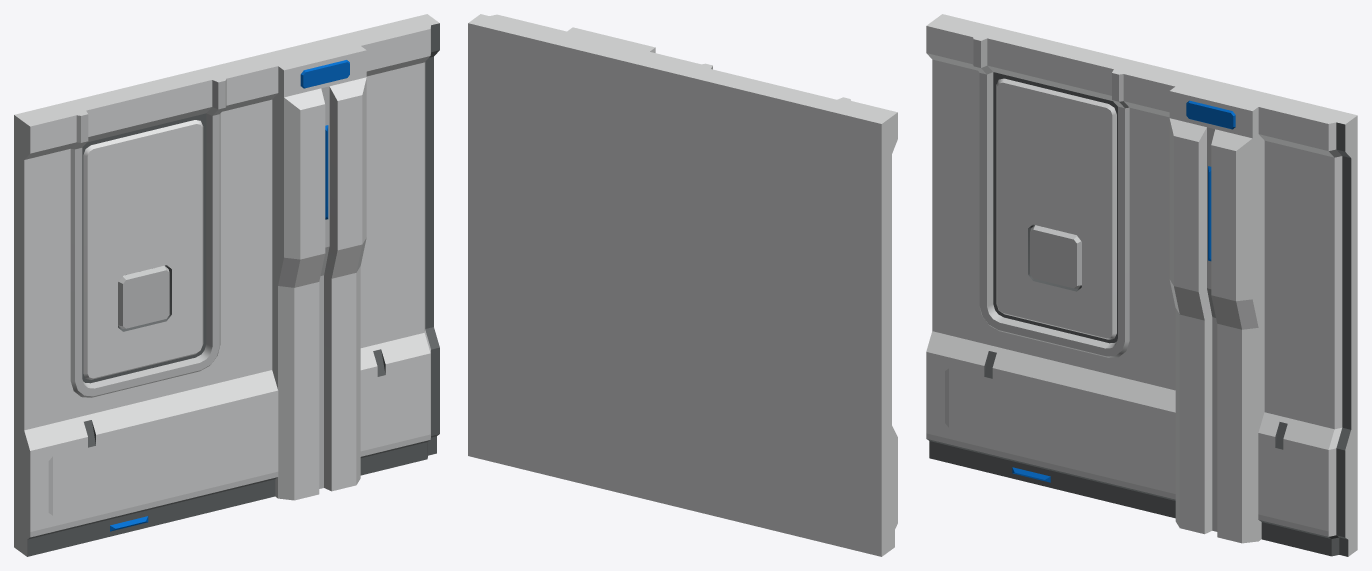
Rendered from Wall_type_A_018.fbx.
3 renders of one model, left to right at view 1: azimuth 30°, elevation 25°; view 2: azimuth 150°, elevation 25°; view 3: azimuth 330°, elevation 25°, orthographic.
Visible parts, largest first — view 1: Wall_type_A_018; view 2: Wall_type_A_018; view 3: Wall_type_A_018.
Part boxes in pixels (box(x1,y1,x2,y2)): Wall_type_A_018: box(14, 14, 439, 556); Wall_type_A_018: box(468, 14, 897, 556); Wall_type_A_018: box(926, 14, 1357, 556).
Bounding box in the file's own units: 400 × 46.98 × 400.
